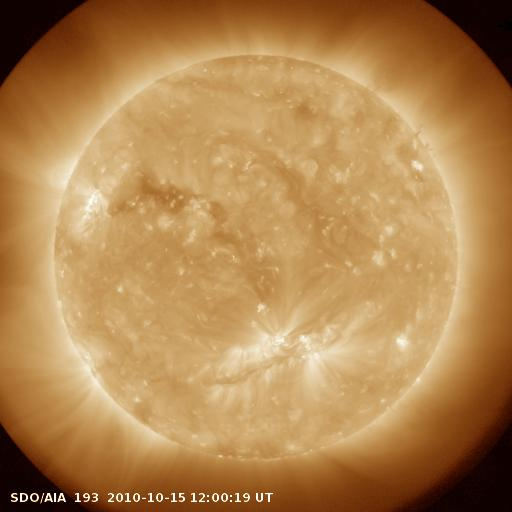coronal_hole: (106, 171, 198, 214)
